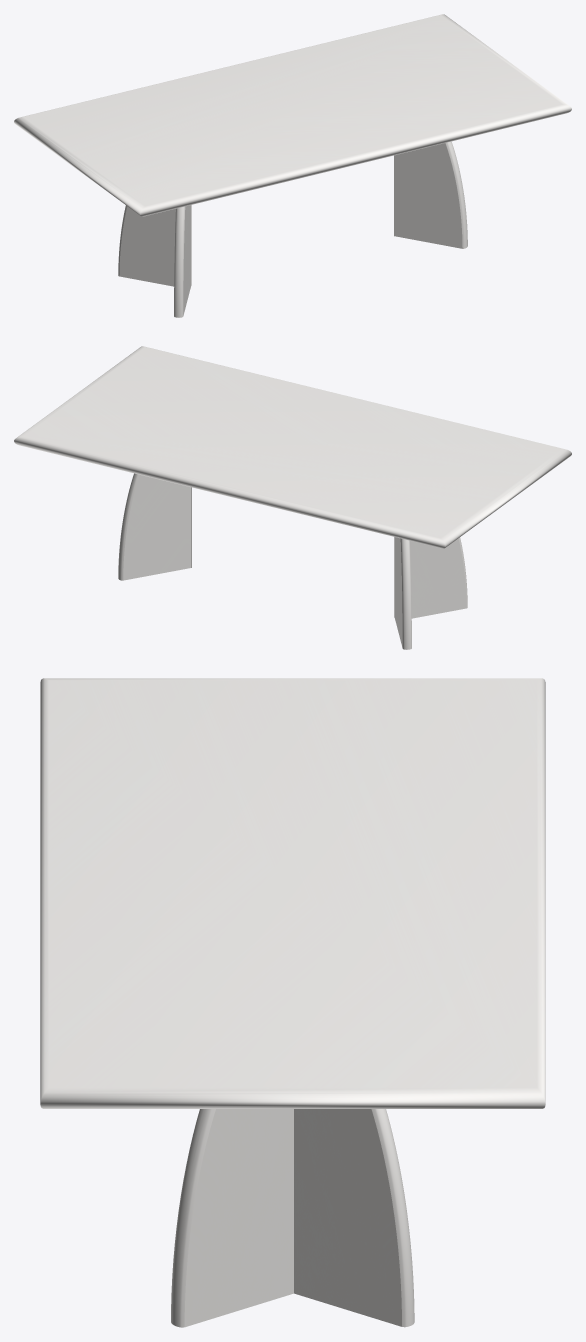
File: purewhite_recta_round_newtable2.glb
3 views of the same model, one above another, from view 1: azimuth 30°, elevation 25°; view 2: azimuth 150°, elevation 25°; view 3: azimuth 270°, elevation 25° (orthographic). The views are drawn at different scales.
Parts seen in each view (by area): view 1: round_recta, newtable2_singleright2, newtable2_singleleft1, newtable2_singleright1; view 2: round_recta, newtable2_singleleft2, newtable2_singleright1, newtable2_singleleft1; view 3: round_recta, newtable2_singleright2, newtable2_singleleft2.
Part boxes in pixels (x1,y1,x2,y2): round_recta: (14,14,571,216); newtable2_singleright2: (394,141,467,248); newtable2_singleleft1: (118,205,191,286); newtable2_singleright1: (174,205,191,317); round_recta: (14,346,571,548); newtable2_singleleft2: (118,473,191,580); newtable2_singleright1: (394,537,467,618); newtable2_singleleft1: (394,537,411,649); round_recta: (40,678,545,1108); newtable2_singleright2: (171,1109,293,1327); newtable2_singleleft2: (294,1109,414,1327).
Size of the model in its own units: 7.5 by 2.49 by 3.8.
Materials: 1 (1 with a texture image).
